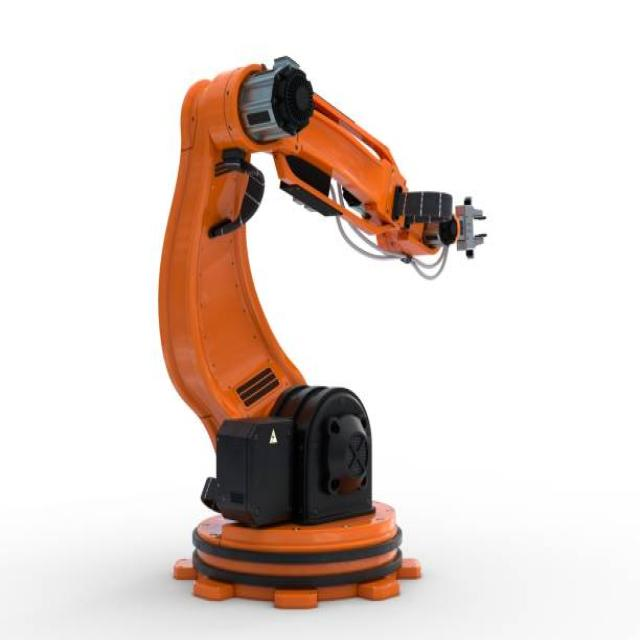Robotic-arm: (155, 31, 488, 607)
